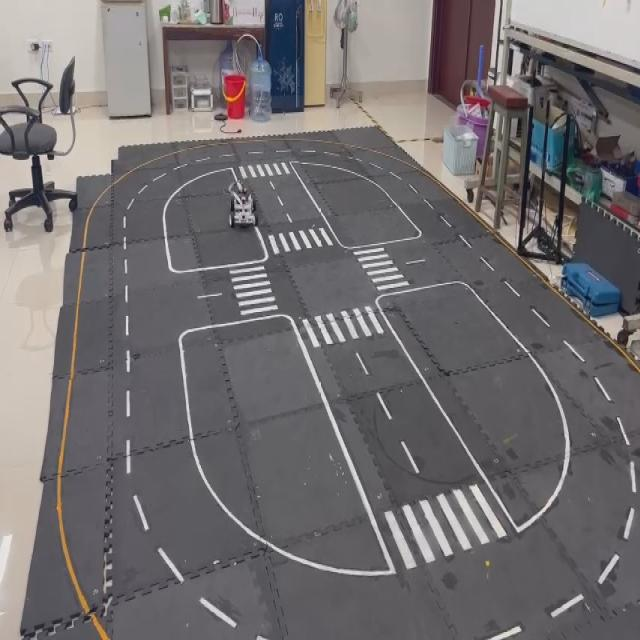SiCo-CAR: (227, 179, 256, 229)
